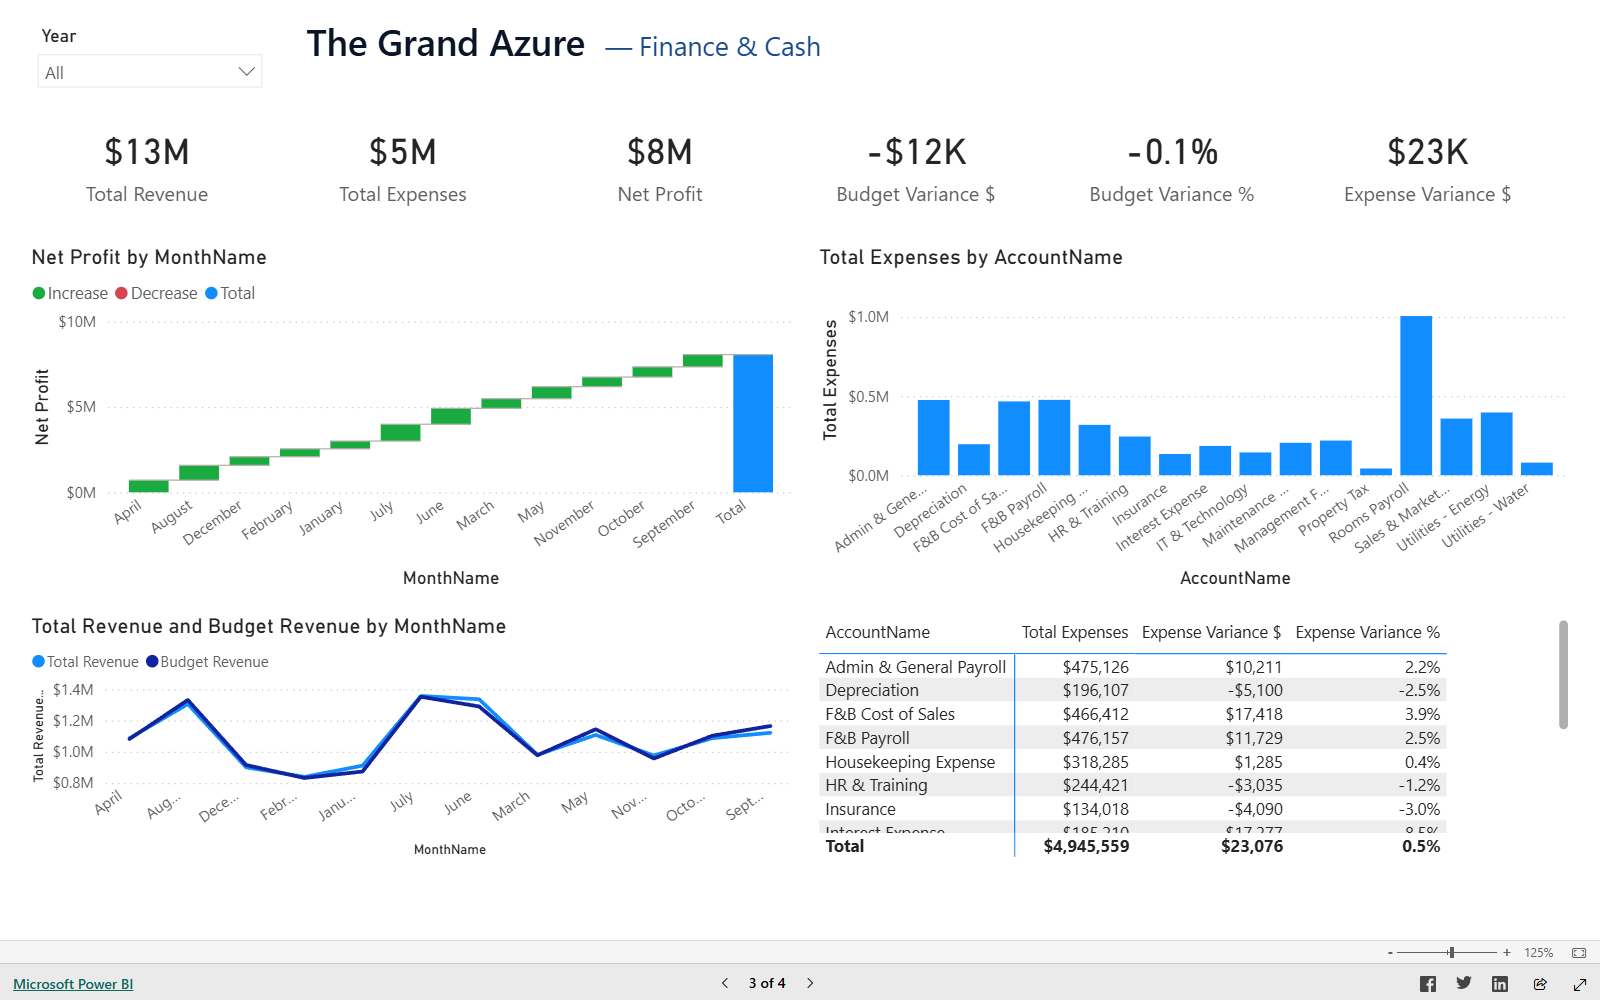

What the dashboard file says about the page in this screenshot:
{"tool":"powerbi","page":{"name":"Finance & Cash","canvas":[1280,720],"ordinal":2},"visuals":[{"type":"card","fields":{"Values":["_Measures.Total Revenue"]},"box":[20,80,195,100],"z":0},{"type":"card","fields":{"Values":["_Measures.Total Expenses"]},"box":[225,80,195,100],"z":1},{"type":"card","fields":{"Values":["_Measures.Net Profit"]},"box":[430,80,195,100],"z":2},{"type":"card","fields":{"Values":["_Measures.Budget Variance $"]},"box":[635,80,195,100],"z":3},{"type":"card","fields":{"Values":["_Measures.Budget Variance %"]},"box":[840,80,195,100],"z":4},{"type":"card","fields":{"Values":["_Measures.Expense Variance $"]},"box":[1045,80,195,100],"z":5},{"type":"waterfallChart","fields":{"Category":["Dim_Date.MonthName"],"Y":["_Measures.Net Profit"]},"box":[20,195,620,280],"z":6},{"type":"clusteredColumnChart","fields":{"Category":["Dim_Account.AccountName"],"Y":["_Measures.Total Expenses"]},"box":[650,195,610,280],"z":7},{"type":"lineChart","fields":{"Category":["Dim_Date.MonthName"],"Y":["_Measures.Total Revenue","_Measures.Budget Revenue"]},"box":[20,490,620,200],"z":8},{"type":"pivotTable","fields":{"Rows":["Dim_Account.AccountName"],"Values":["_Measures.Total Expenses","_Measures.Expense Variance $","_Measures.Expense Variance %"]},"box":[650,490,610,200],"z":9},{"type":"slicer","fields":{"Values":["Dim_Date.Year"]},"box":[19.9,14.8,199.9,57.6],"z":10}]}

Visuals, with their boxes on the page's 1280x720 design canvas (x1, y1, x2, y2). These are canvas units, not pixel positions in the 1600x1000 screenshot, which may show the page scaled, cropped or inside an application window:
card - _Measures.Total Revenue: 20,80,215,180
card - _Measures.Total Expenses: 225,80,420,180
card - _Measures.Net Profit: 430,80,625,180
card - _Measures.Budget Variance $: 635,80,830,180
card - _Measures.Budget Variance %: 840,80,1035,180
card - _Measures.Expense Variance $: 1045,80,1240,180
waterfallChart - Dim_Date.MonthName x _Measures.Net Profit: 20,195,640,475
clusteredColumnChart - Dim_Account.AccountName x _Measures.Total Expenses: 650,195,1260,475
lineChart - Dim_Date.MonthName x _Measures.Total Revenue: 20,490,640,690
pivotTable - Dim_Account.AccountName x _Measures.Total Expenses: 650,490,1260,690
slicer - Dim_Date.Year: 20,15,220,72
